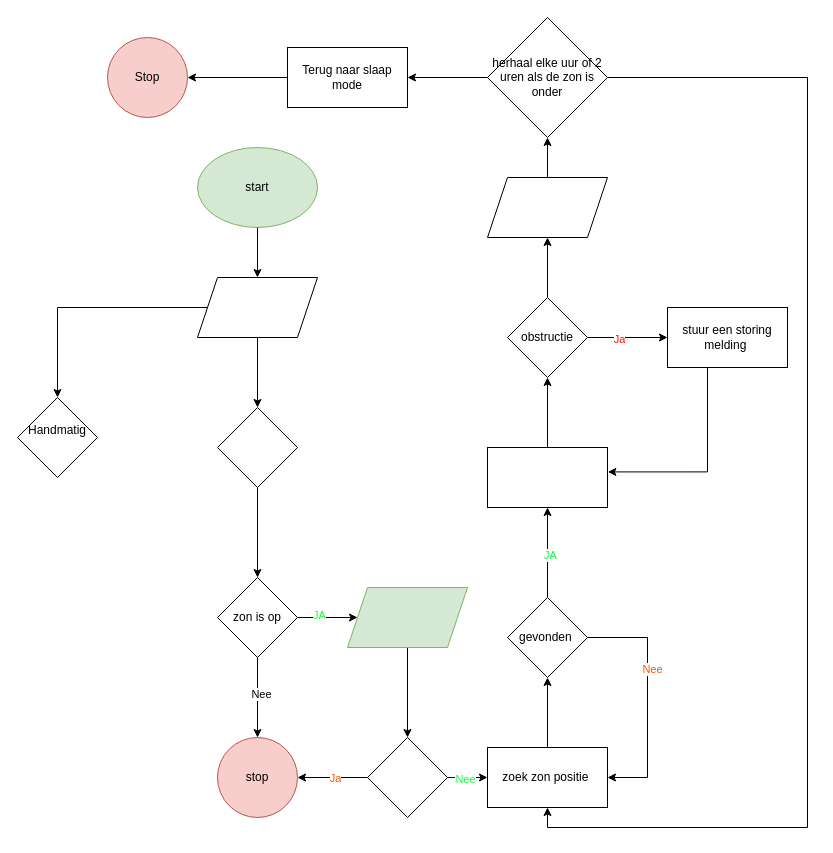
Some shapes in this 833 by 853 pixel diagram are drawn without their labels. The shapes that lost their labels are listed below. From the top down, each one's centre as x and y in pixels, then its label:
At (547,207): "positioneer".
At (257,307): "check de mode".
At (257,447): "Automatisch".
At (547,477): "obstructie sensor lezen".
At (407,617): "wind kracht meten".
At (407,777): "hoger dan X".
